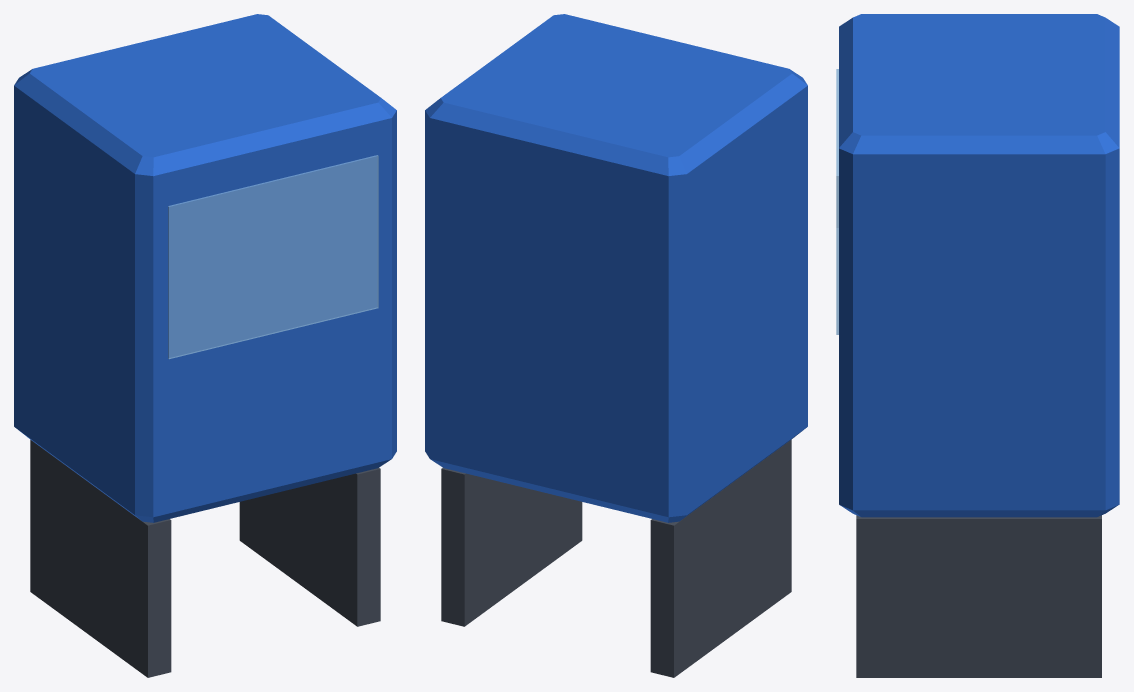
Rendered from newspaper_box.glb.
The picture shows the model from 3 angles, left to right: view 1: azimuth 30°, elevation 25°; view 2: azimuth 150°, elevation 25°; view 3: azimuth 270°, elevation 25°; orthographic projection. The views are drawn at different scales.
Visible parts, largest first — view 1: newspaper_box; view 2: newspaper_box; view 3: newspaper_box.
Boxes of the visible parts, x1,y1,x2,y2 form: newspaper_box: [14, 14, 396, 677]; newspaper_box: [425, 14, 807, 677]; newspaper_box: [836, 14, 1119, 677].
Size of the model in its own units: 0.45 by 0.855 by 0.4035.
